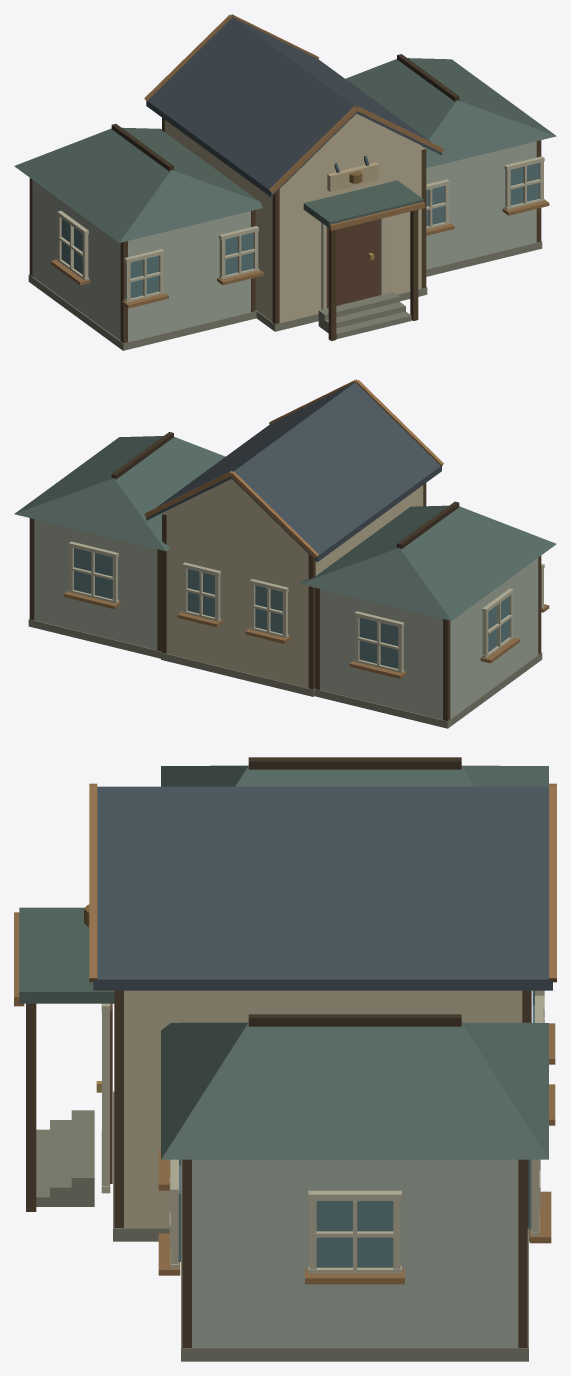
Rendered from Building_Settlement_VillageHall_001.glb.
3 renders of one model, top to bottom at view 1: azimuth 30°, elevation 25°; view 2: azimuth 150°, elevation 25°; view 3: azimuth 270°, elevation 25°, orthographic. The views are drawn at different scales.
Parts seen in each view (by area): view 1: Building_Settlement_VillageHall_001; view 2: Building_Settlement_VillageHall_001; view 3: Building_Settlement_VillageHall_001.
Part boxes in pixels (bbox=[...]): Building_Settlement_VillageHall_001: bbox=[14, 14, 556, 350]; Building_Settlement_VillageHall_001: bbox=[14, 379, 556, 728]; Building_Settlement_VillageHall_001: bbox=[14, 757, 556, 1361].
Bounding box in the file's own units: 11.71 × 5.36 × 6.79.
